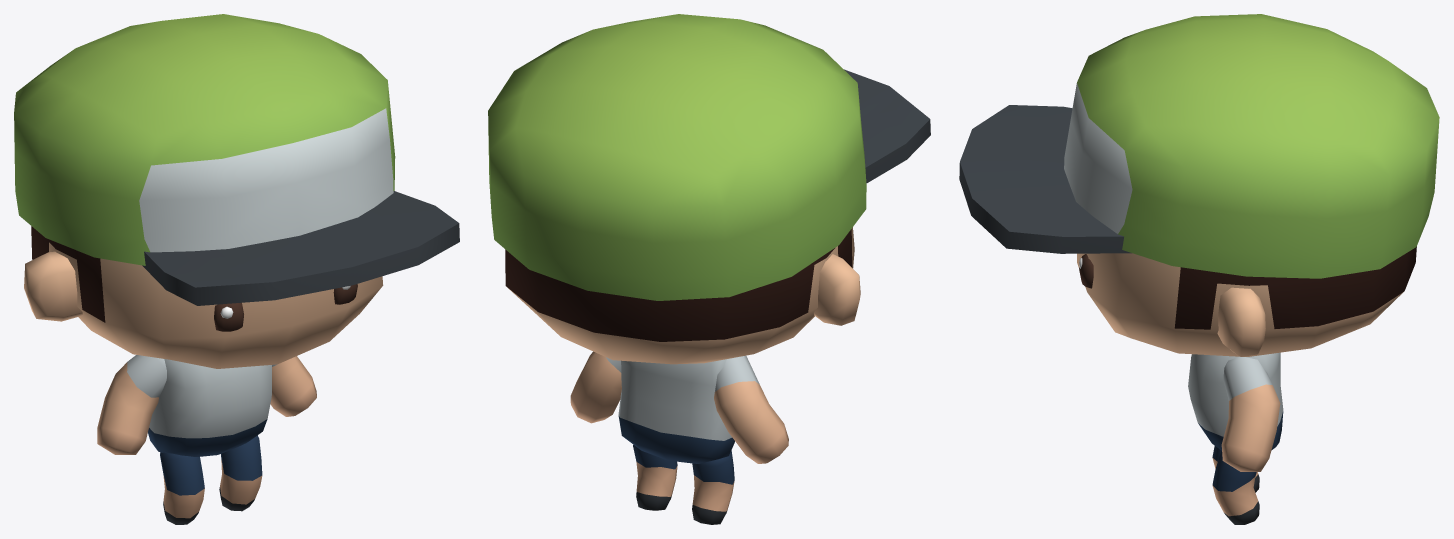
Rendered from idle_0041.obj.
3 renders of one model, left to right at view 1: azimuth 30°, elevation 25°; view 2: azimuth 150°, elevation 25°; view 3: azimuth 270°, elevation 25°, orthographic.
Visible parts, largest first — view 1: Object_41, Object_42, Object_36, Object_44, Object_38; view 2: Object_41, Object_36, Object_44, Object_42; view 3: Object_41, Object_36, Object_42, Object_44.
Part boxes in pixels (x1,y1,x2,y2): Object_41: (14, 14, 395, 265); Object_42: (139, 108, 459, 305); Object_36: (24, 226, 383, 368); Object_44: (97, 355, 316, 524); Object_38: (214, 284, 357, 331); Object_41: (488, 14, 866, 300); Object_36: (505, 227, 860, 364); Object_44: (570, 351, 788, 524); Object_42: (844, 69, 930, 183); Object_41: (1077, 14, 1439, 278); Object_36: (1077, 246, 1416, 356); Object_42: (959, 83, 1132, 253); Object_44: (1188, 352, 1283, 524).
Bounding box in the file's own units: 0.9691 × 1.22 × 1.14.
